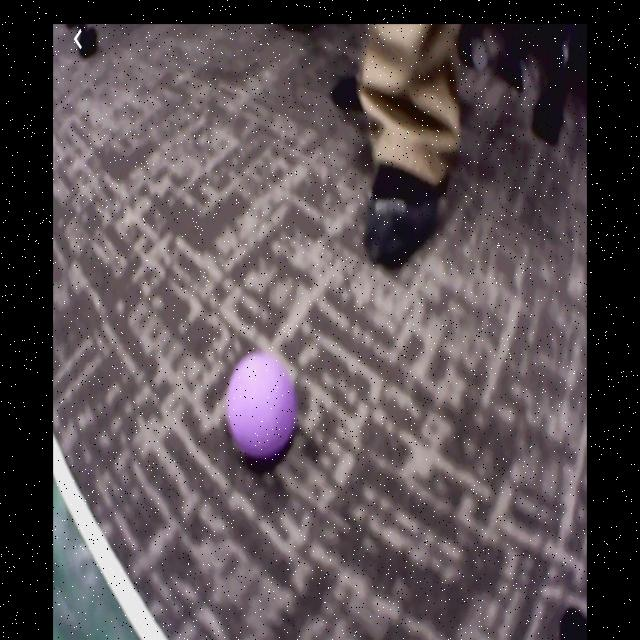ball: (229, 350, 299, 464)
